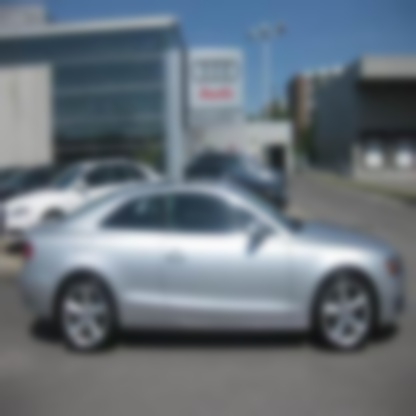Vehicle: (15, 175, 409, 356)
